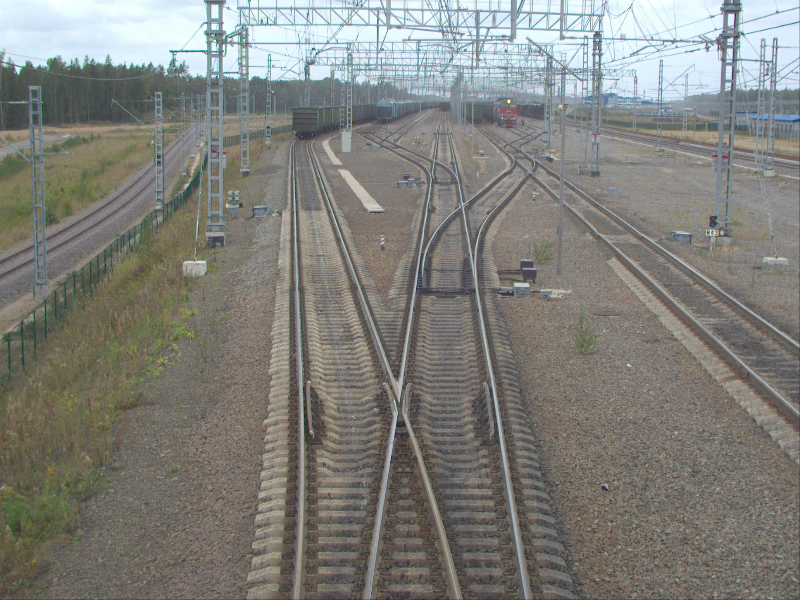left: (416, 202, 481, 289), (429, 160, 462, 184)
